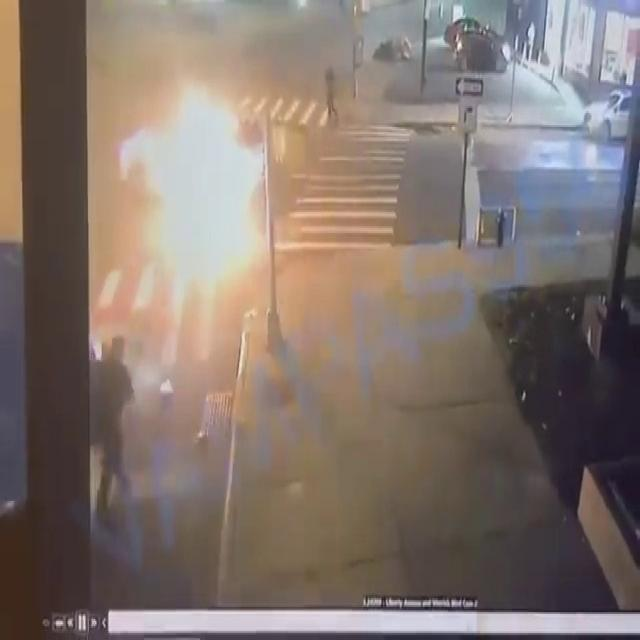Fire: (150, 78, 247, 285)
